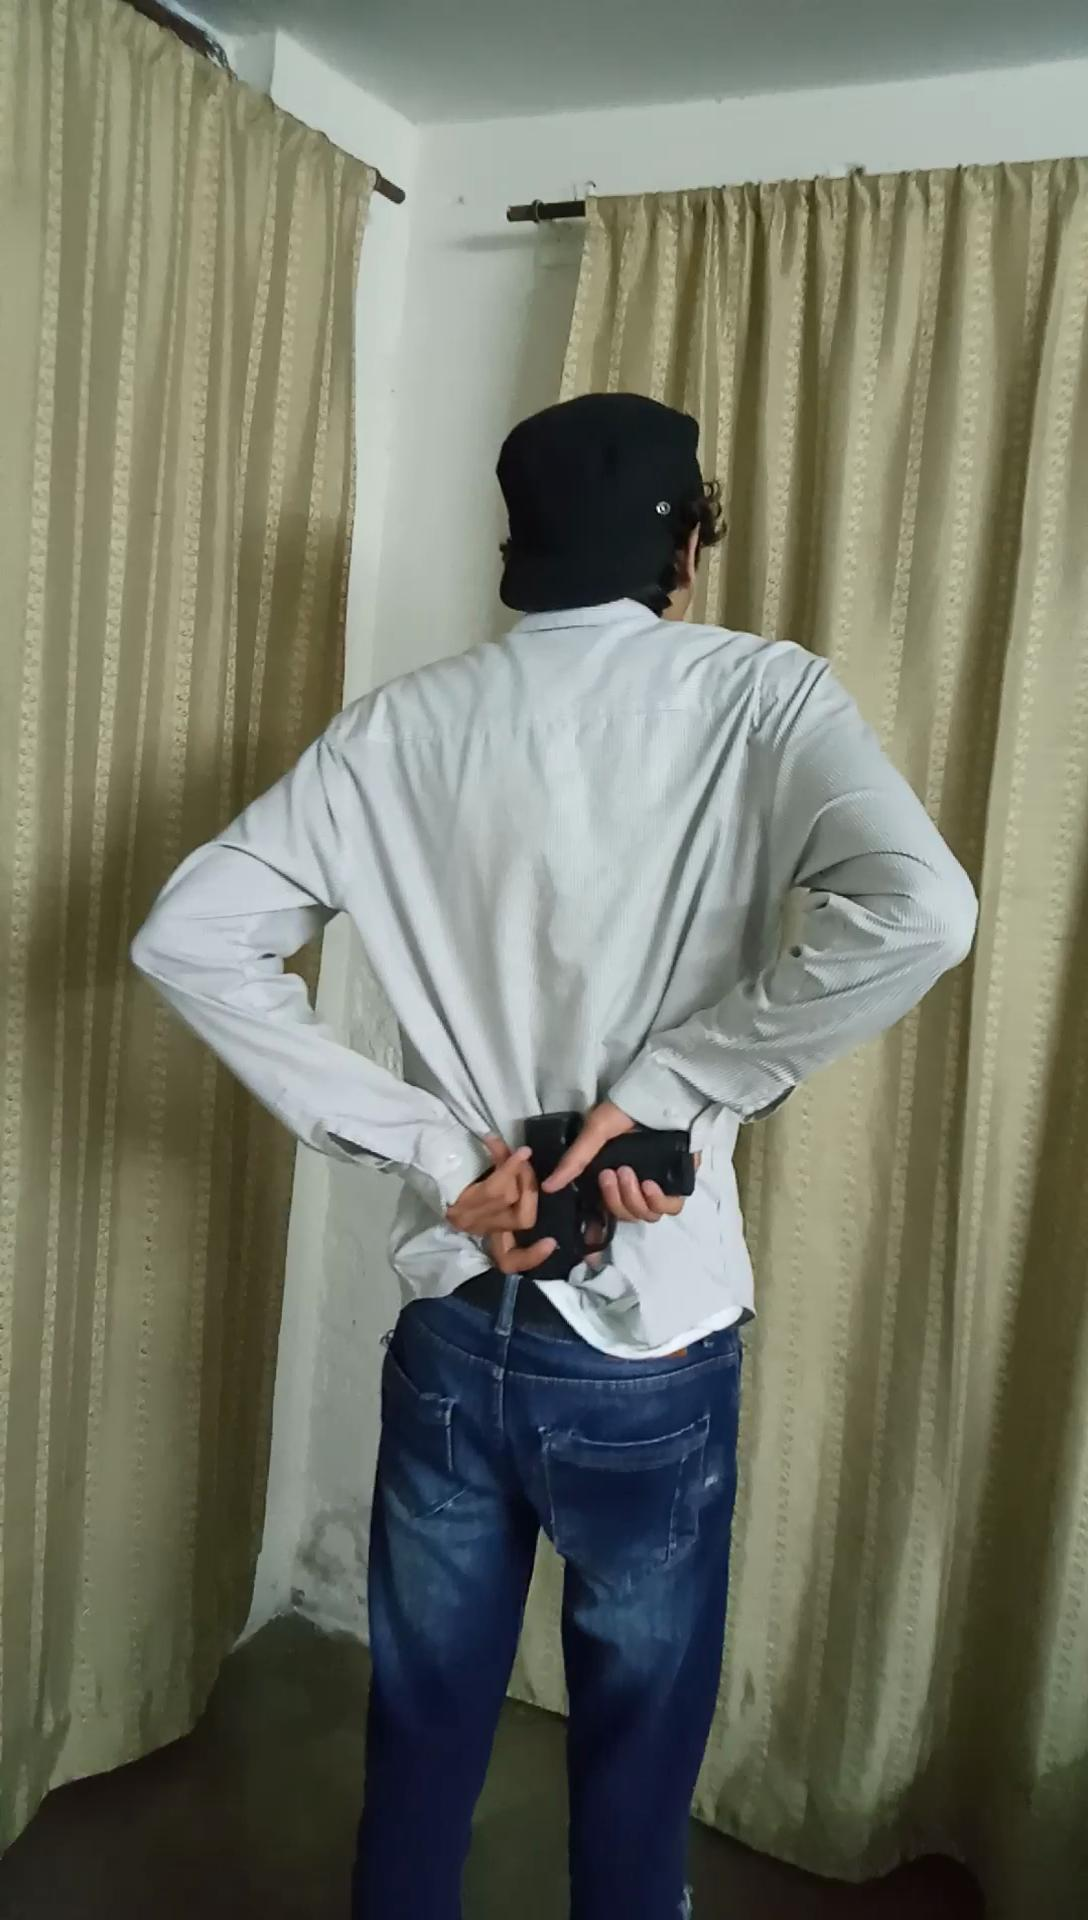weapon: (468, 1091, 721, 1302)
